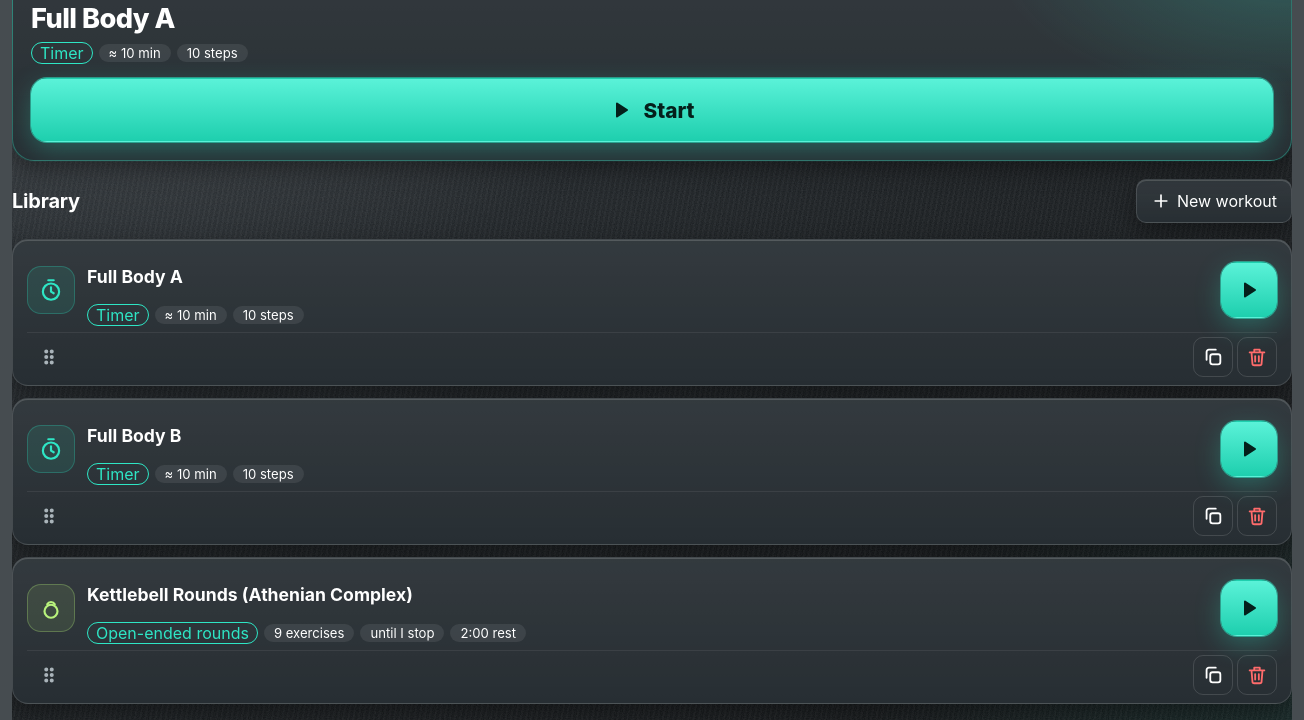
Test case: Library › Delete asks for confirmation, then removes
(page scrolled)
Step 1. Click the 6th button named "Delete Full Body B" → (1257, 516), box [1237,496,1277,536]
(page scrolled)
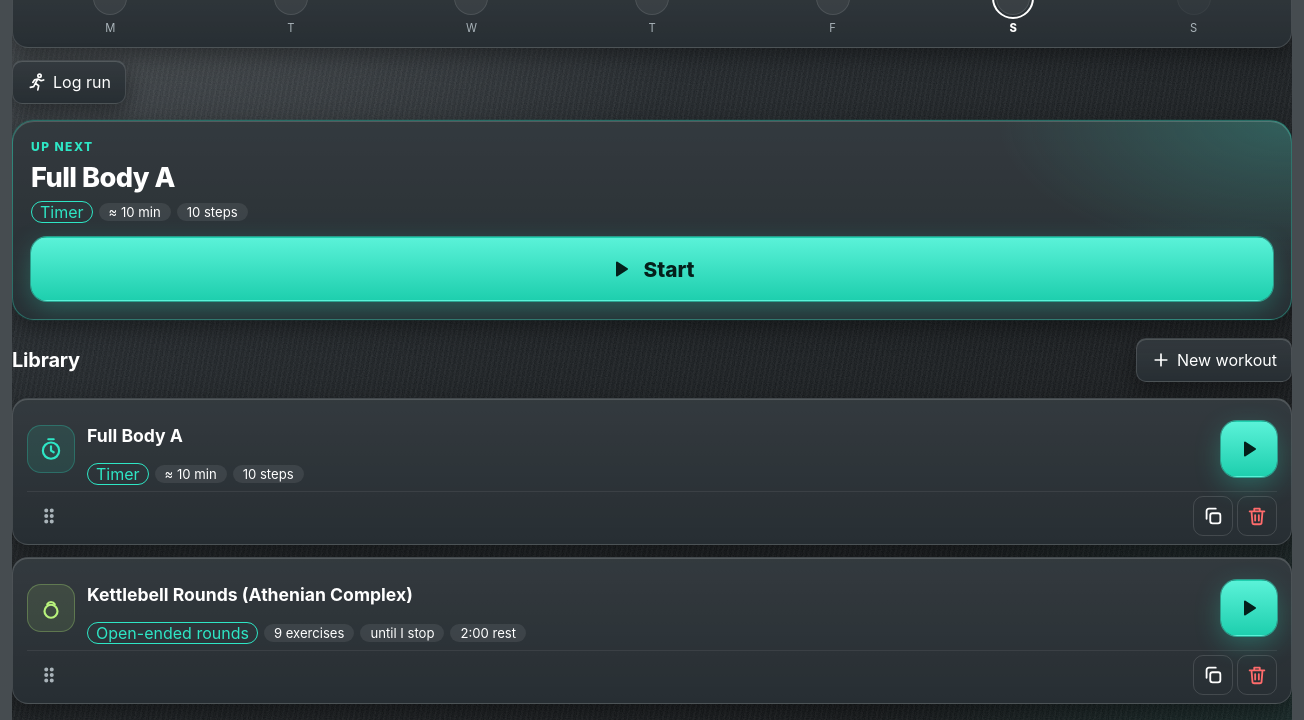
Now the button "Full Body B" is gone
